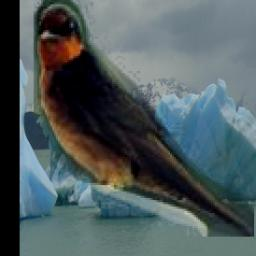Swallow: (34, 0, 254, 237)
